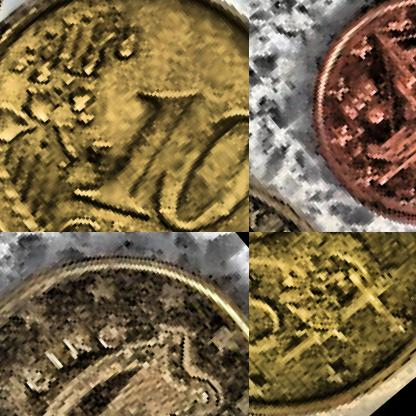coin: (0, 0, 248, 231), (0, 232, 248, 415), (261, 0, 415, 231), (249, 232, 415, 415)
